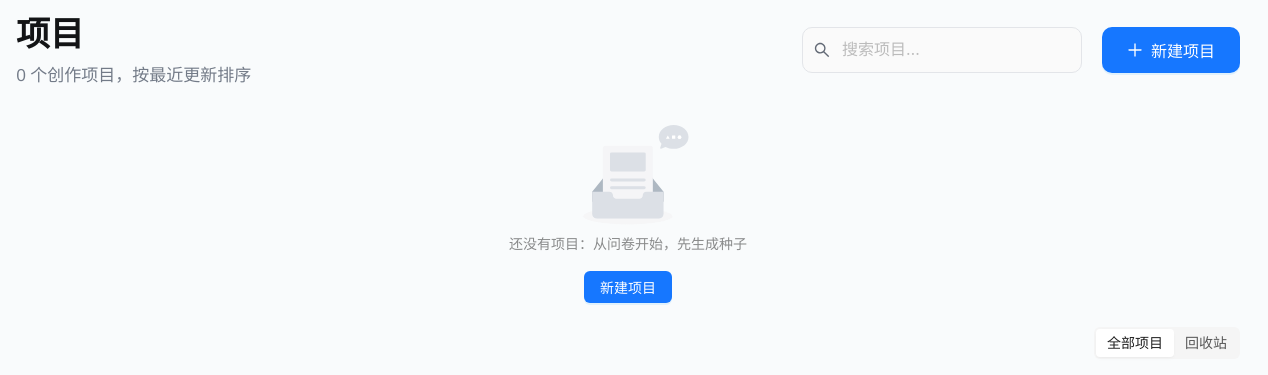
Test: ProjectListPage › 永久删除需二次确认
expect the text "还没有项目：从问卷开始，先生成种子" is shown: met, box [509,235,747,252]
Click the radio button "回收站": (1206, 342) [1185,334,1227,351]
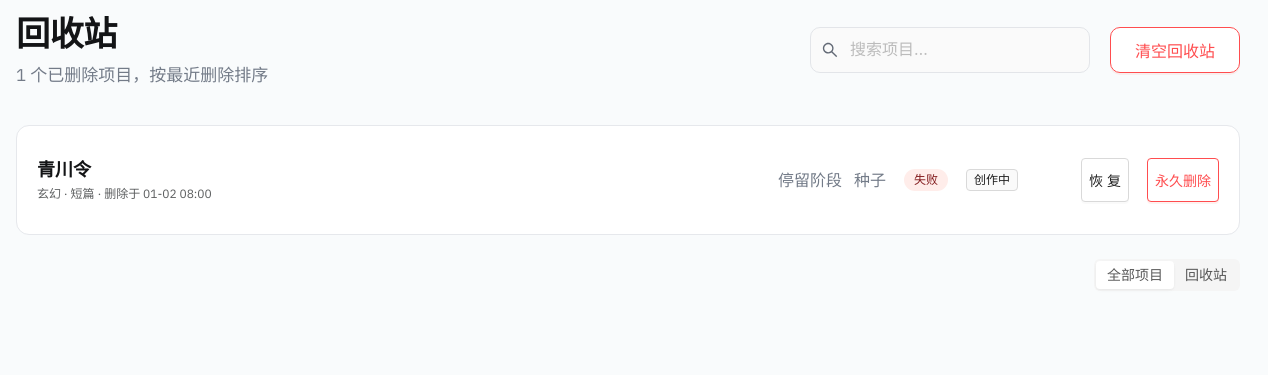
expect the text "青川令" is shown: met, box [37,158,91,181]
Click the button "永久删除": (1183, 180) [1147,158,1219,202]
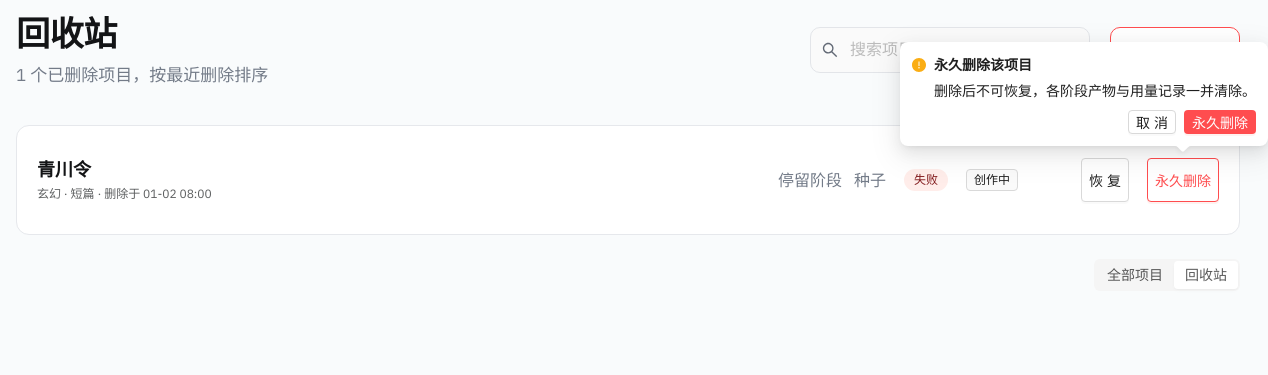
expect the text "删除后不可恢复，各阶段产物与用量记录一并清除。" is shown: met, box [934,80,1256,102]
Click the button "永久删除" below "删除后不可恢复，各阶段产物与用量记录一并清除。": (1220, 122) [1184,110,1256,134]
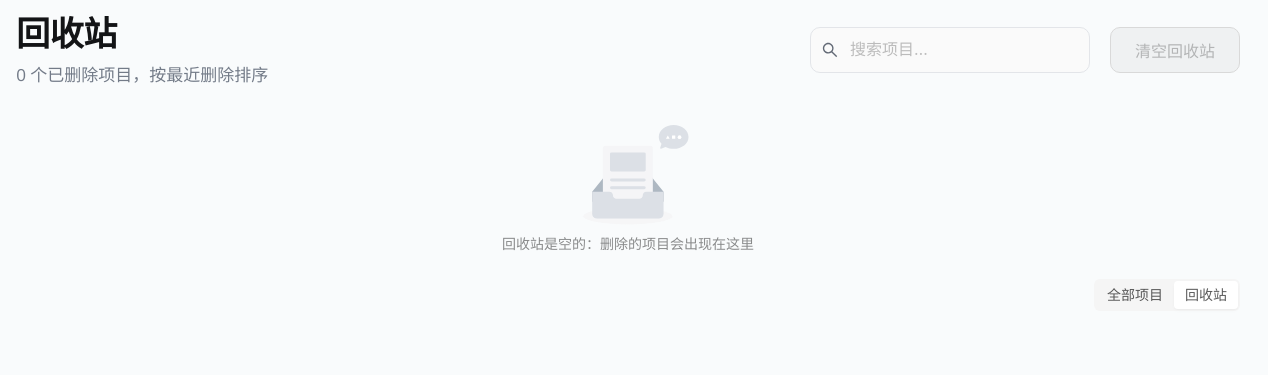
expect the text "回收站是空的：删除的项目会出现在这里" is shown: met, box [502,235,754,252]
